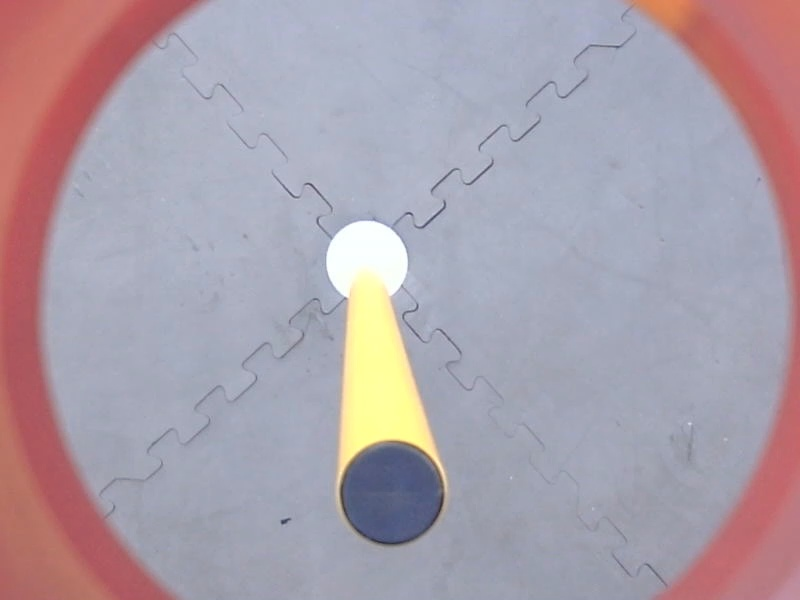tip: (330, 436, 452, 555)
